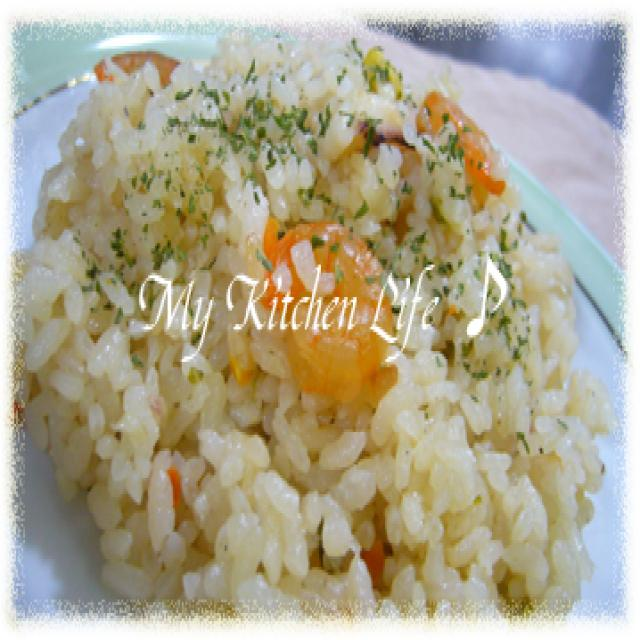米饭主食: (30, 43, 603, 583)
